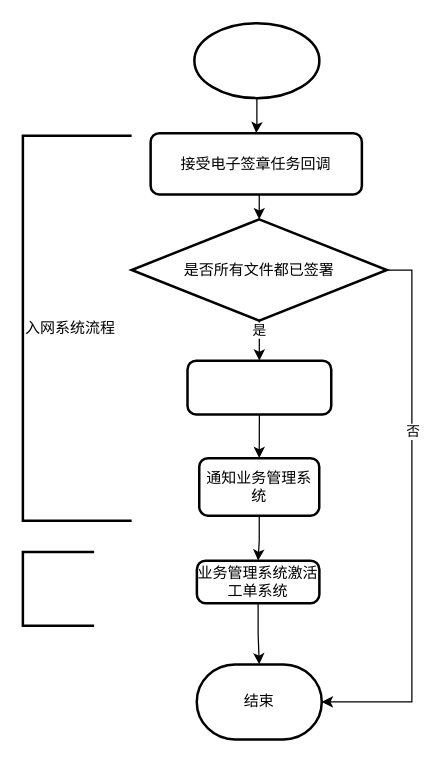
The diagram is 444 pixels wide and 761 high, and some of its shapes have lost their labels. Each missing label, with the centre of its shape:
"业务管理系统流程" goes at (x=58, y=588).
"开始" goes at (x=256, y=60).
"通知商户" goes at (x=259, y=387).
